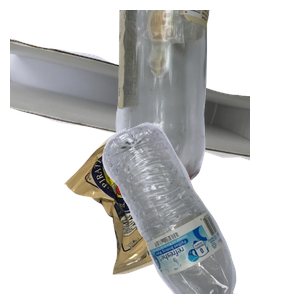cardboard: (10, 35, 250, 188)
glass: (113, 10, 300, 190)
plastic: (100, 120, 300, 300)
trash: (61, 127, 260, 300)
